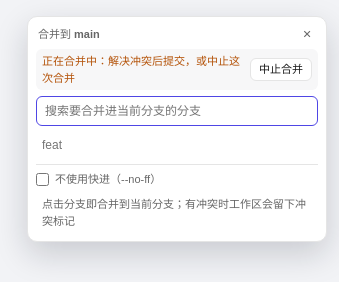
Test: 「合并中」时给中止入口：确认后撤掉并把提示收起来
Check: the element with class "git-merge-warn" shows "正在合并中", box x1=42 y1=55 x2=240 y2=84
Click the button "中止合并".
click(281, 70)  # box x1=250 y1=58 x2=312 y2=81
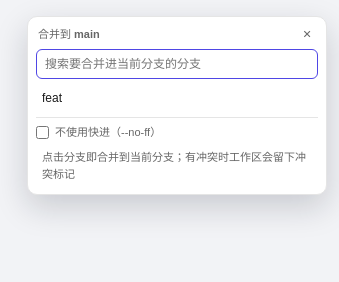
Check: the element with class "git-merge-warn" is gone
